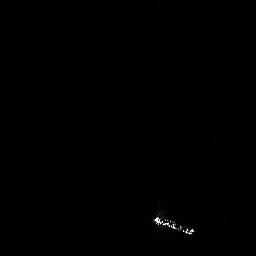ship: (150, 212, 199, 239)
